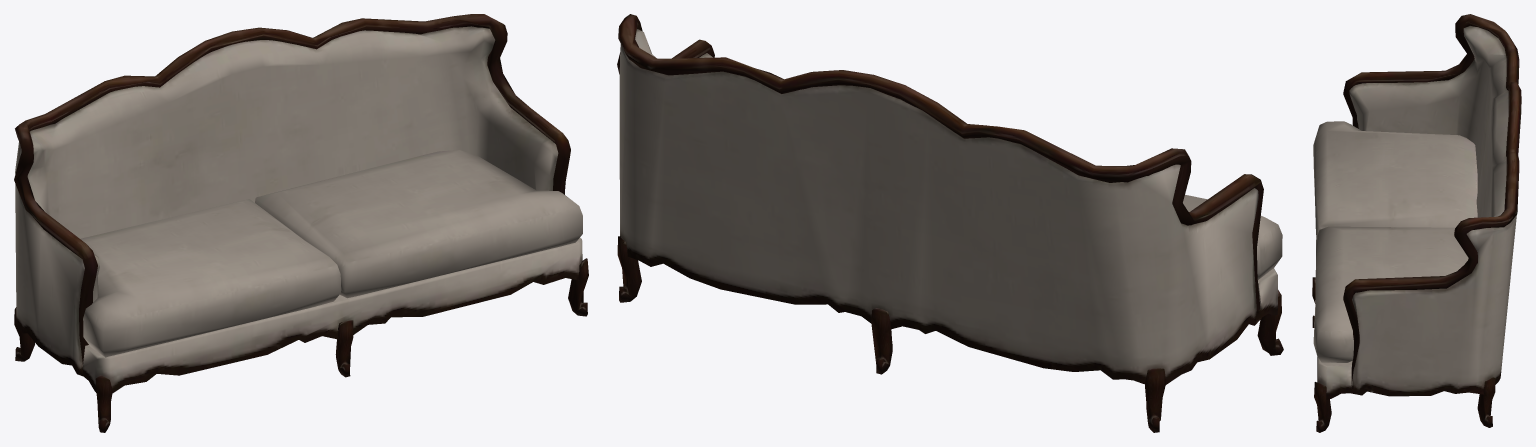
Rendered from Sofa_01.glb.
The picture shows the model from 3 angles, left to right: view 1: azimuth 30°, elevation 25°; view 2: azimuth 150°, elevation 25°; view 3: azimuth 270°, elevation 25°; orthographic projection. The views are drawn at different scales.
Visible parts, largest first — view 1: Sofa_01; view 2: Sofa_01; view 3: Sofa_01.
Boxes of the visible parts, x1,y1,x2,y2 form: Sofa_01: (14, 14, 588, 432); Sofa_01: (617, 14, 1283, 432); Sofa_01: (1312, 14, 1521, 432).
Size of the model in its own units: 1.57 by 0.7953 by 0.6507.
1 material, 1 textured.
